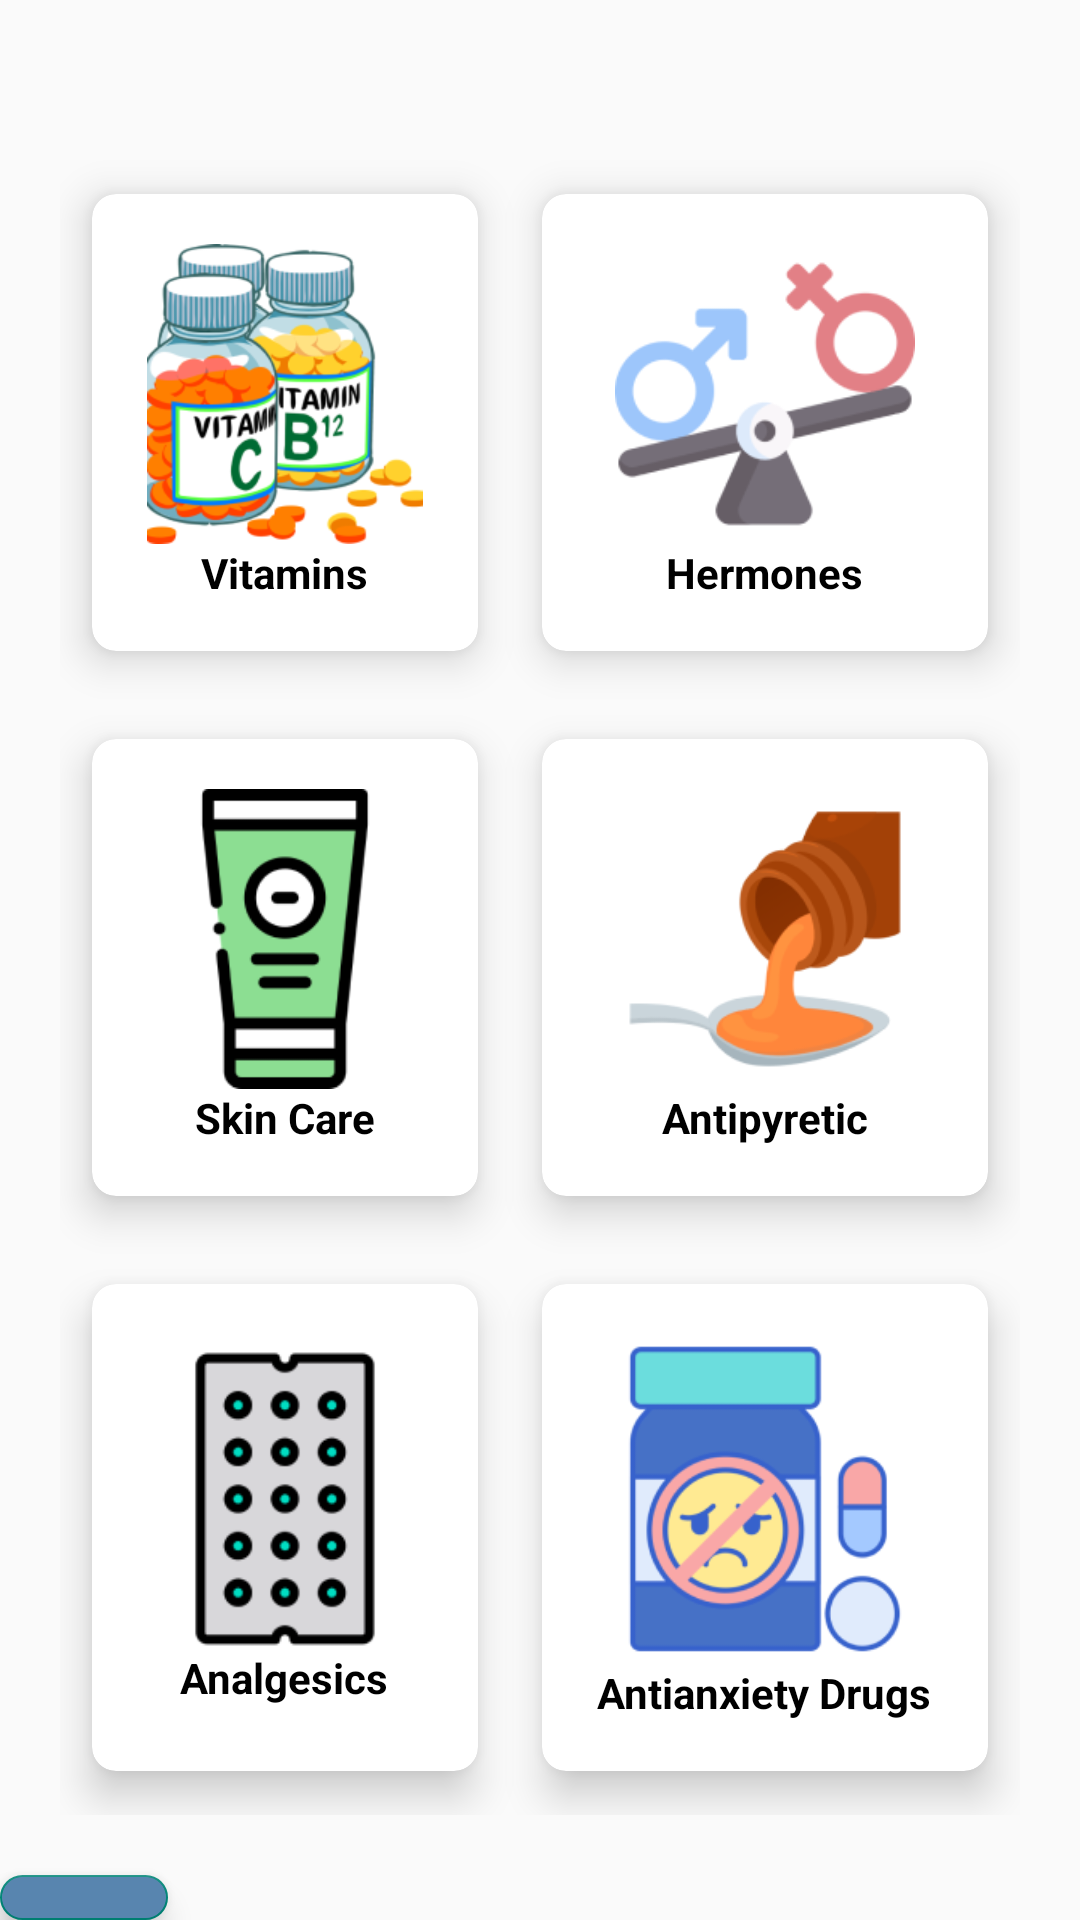

Locate icon controls on the screen. Image size 1080×1920, boxes as {"left": x1, "top": y1, "right": x2, "bottom": y2}.
lotion: {"left": 201, "top": 789, "right": 368, "bottom": 1089}
tablets: {"left": 195, "top": 1352, "right": 375, "bottom": 1646}
tinctures: {"left": 630, "top": 811, "right": 901, "bottom": 1067}
